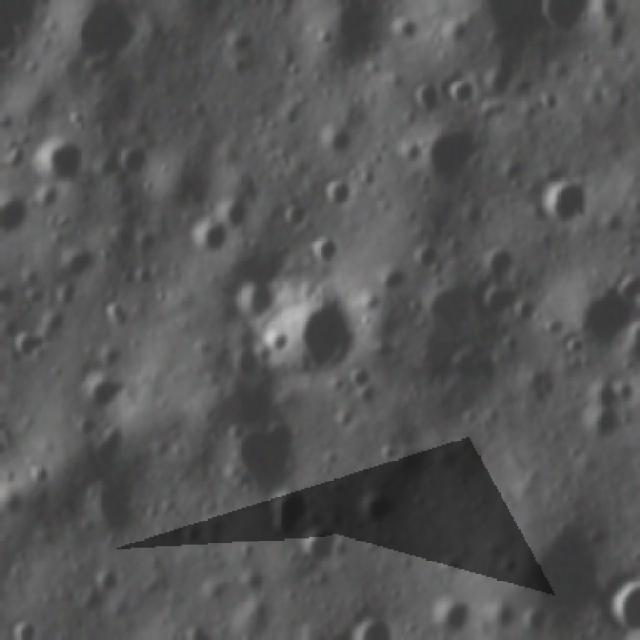crater: (510, 523, 616, 620), (262, 300, 366, 382), (212, 417, 299, 501), (63, 0, 143, 72), (413, 122, 487, 186), (568, 284, 634, 351), (578, 381, 640, 452), (21, 136, 88, 190), (218, 276, 280, 330), (266, 489, 319, 548), (535, 0, 596, 48), (536, 176, 590, 230), (304, 520, 348, 578), (78, 371, 132, 417), (432, 586, 476, 640), (182, 221, 230, 264), (611, 564, 640, 634), (5, 322, 49, 368), (355, 486, 399, 531), (470, 284, 516, 325), (403, 78, 442, 125), (351, 609, 407, 640), (439, 76, 487, 110), (0, 192, 34, 239), (116, 146, 155, 186), (277, 195, 317, 233), (6, 611, 56, 640), (305, 234, 341, 268), (322, 176, 353, 215), (486, 245, 516, 282)
